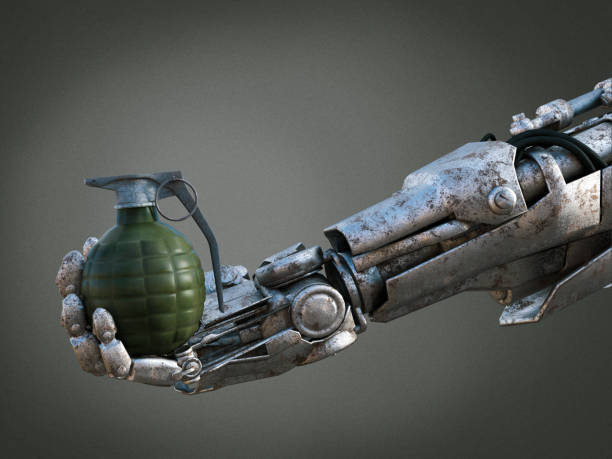e1: (78, 174, 227, 354)
